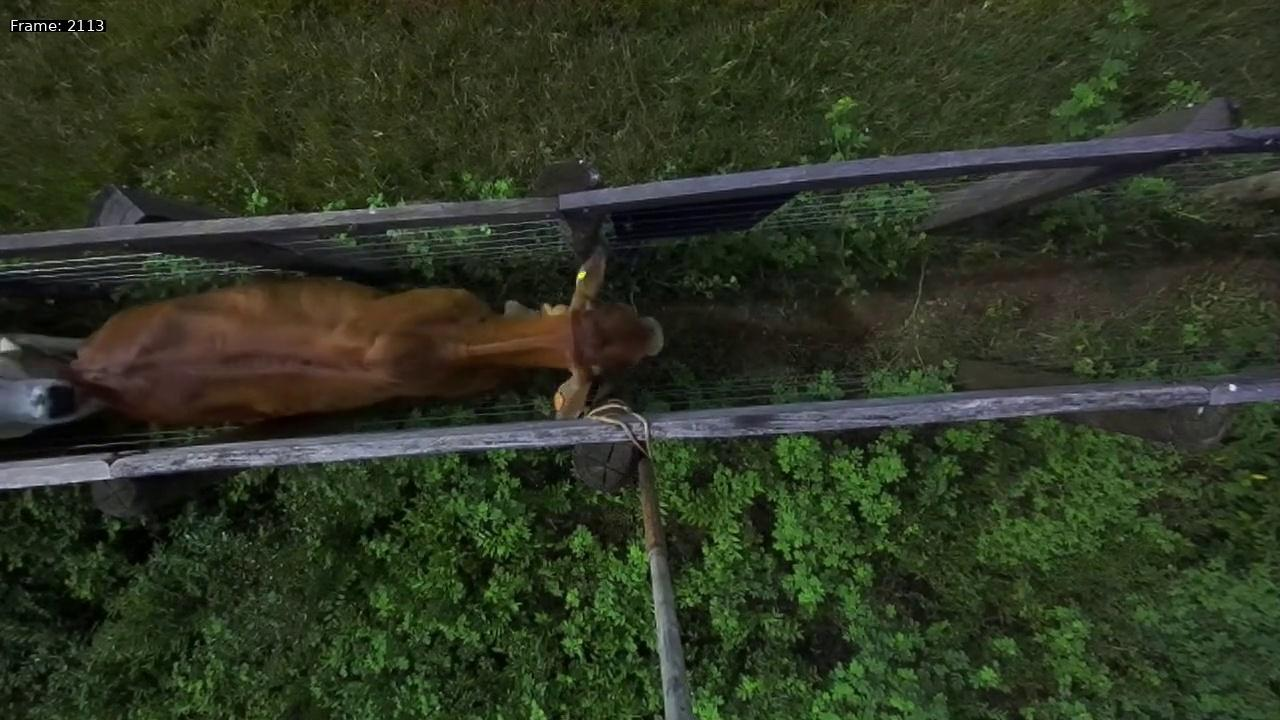cattle: (64, 199, 671, 446)
